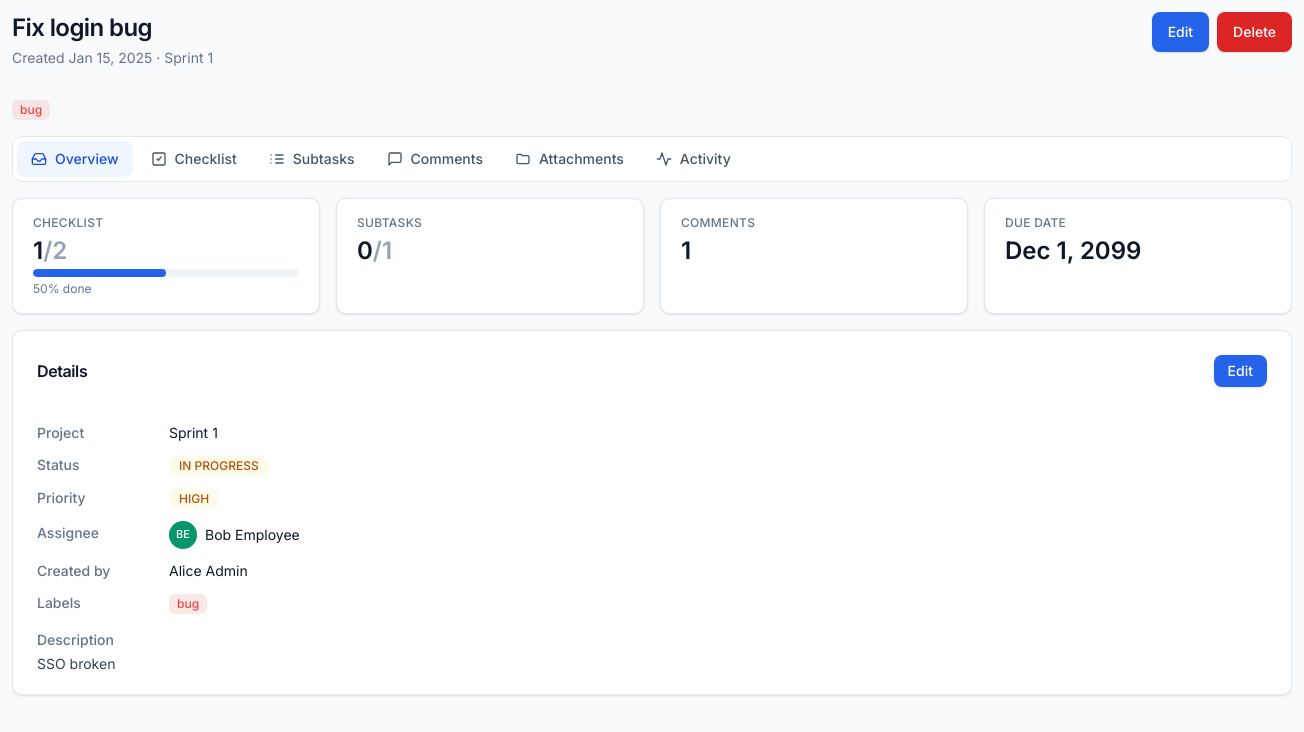
Test: TaskDetailsPage › loads and renders comments
The image size is (1304, 732).
Expected: the heading "Fix login bug" is shown, [12, 13, 152, 42]
Click the button "Comments": (435, 159) [372, 141, 497, 177]
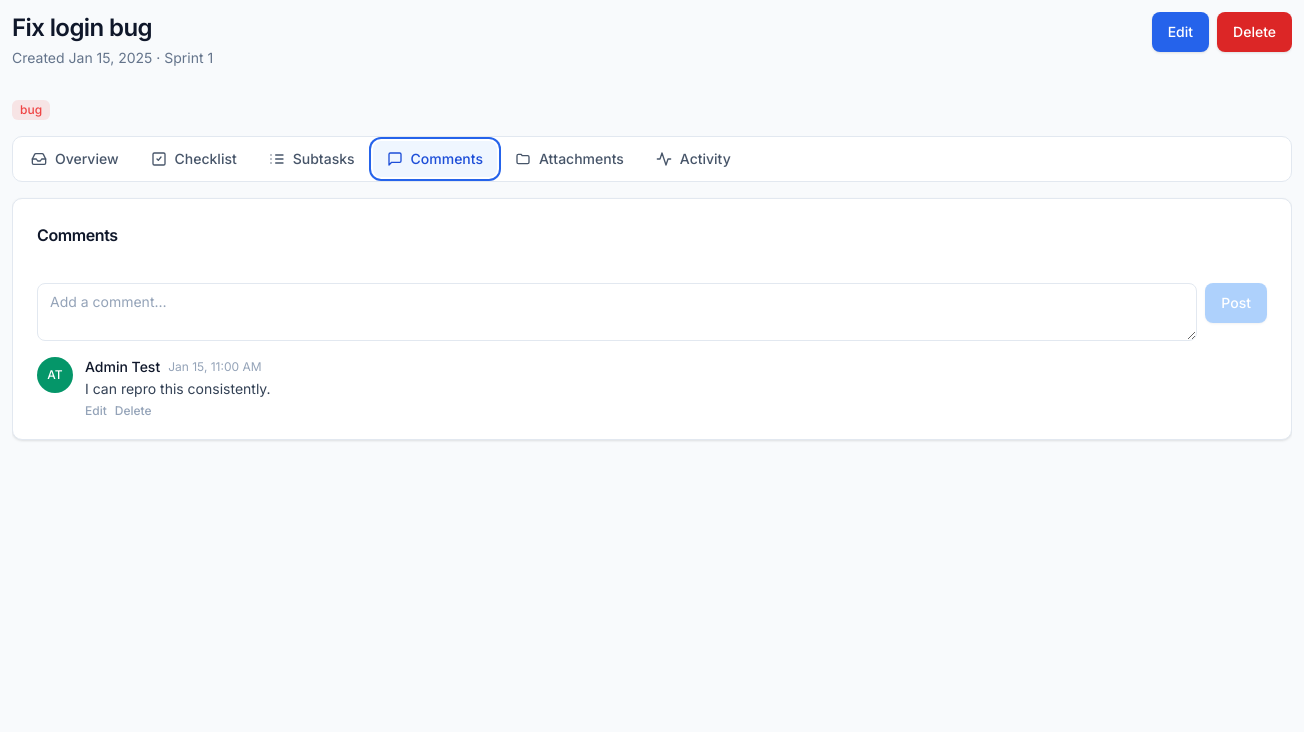
Now the text "I can repro this consistently." is shown, box [85, 380, 271, 397]
Now the text "Admin Test" is shown, box [85, 357, 160, 377]
